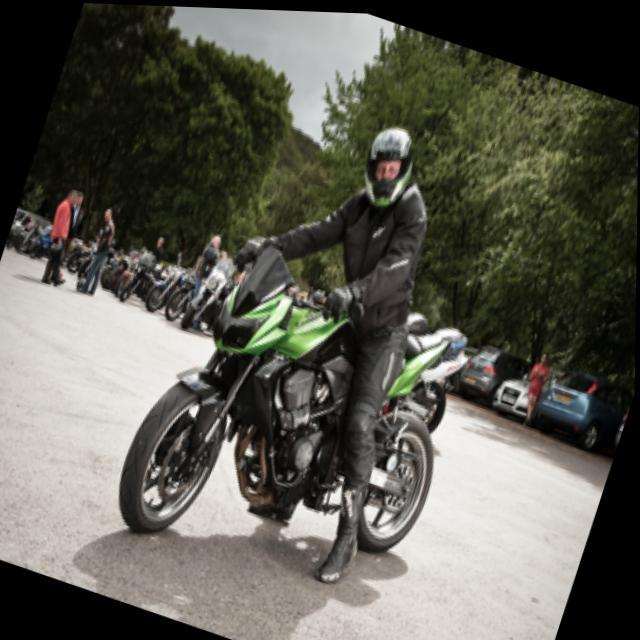Helmet: (358, 119, 422, 212)
